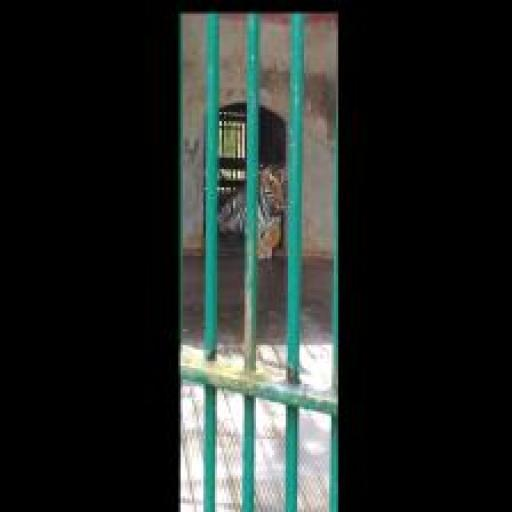Tiger: (220, 158, 290, 262)
